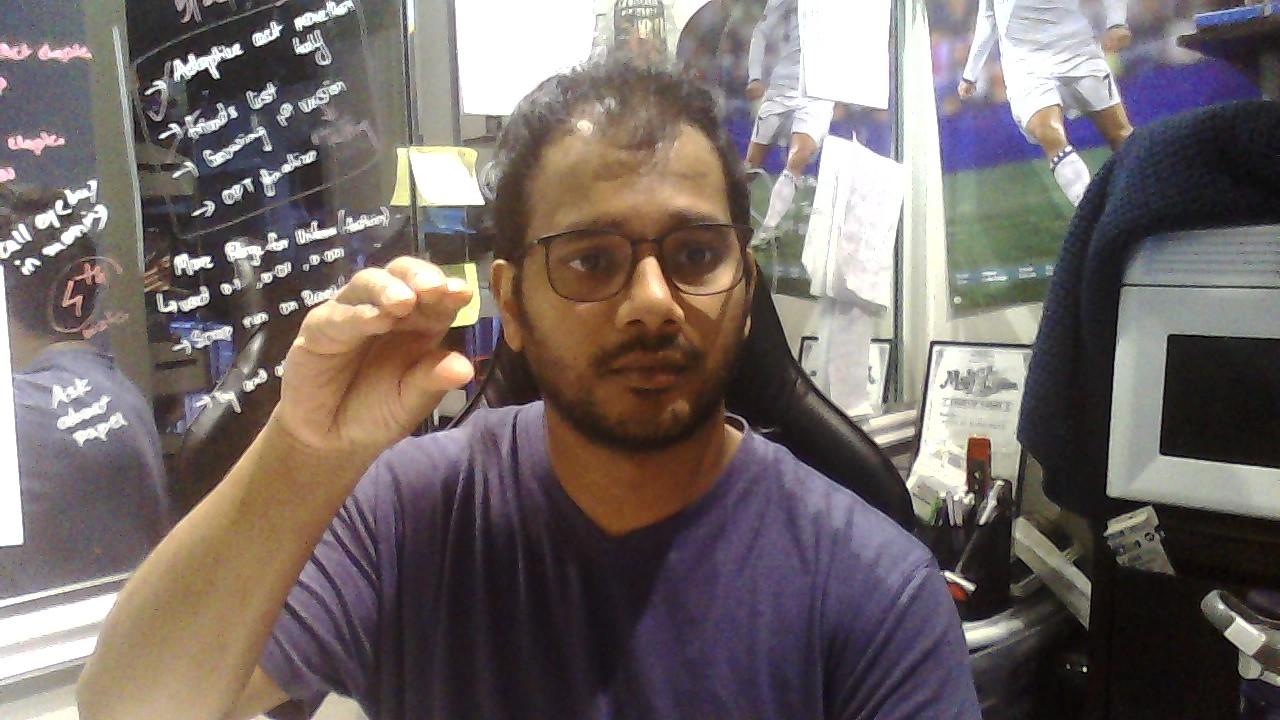No: (280, 255, 476, 448)
